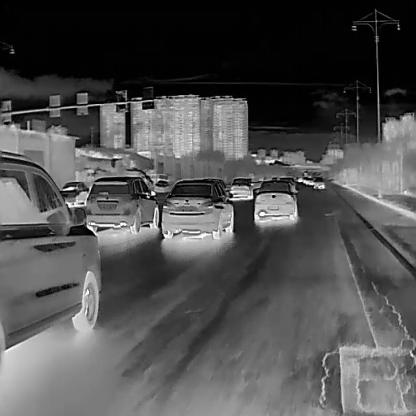car: (0, 149, 101, 368), (160, 176, 232, 239), (84, 175, 158, 232), (254, 179, 296, 224), (58, 180, 89, 206), (229, 176, 251, 198), (312, 177, 324, 189)
